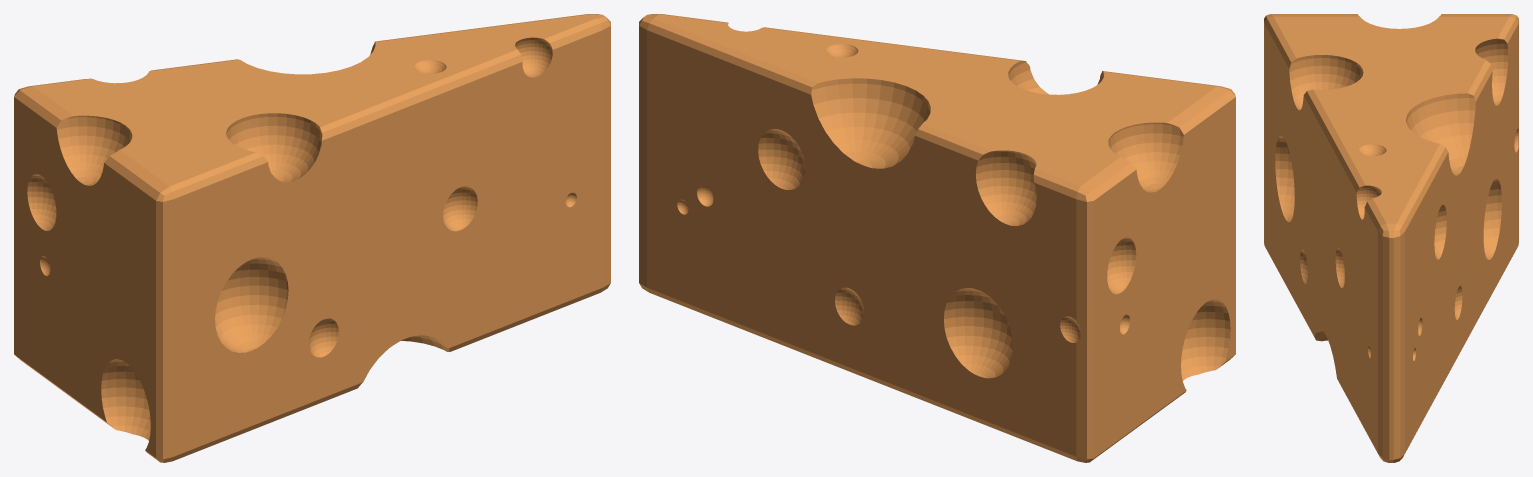
Rendered from cheese_3d.glb.
The picture shows the model from 3 angles, left to right: view 1: azimuth 30°, elevation 25°; view 2: azimuth 150°, elevation 25°; view 3: azimuth 270°, elevation 25°; orthographic projection. The views are drawn at different scales.
Parts seen in each view (by area): view 1: Cheese; view 2: Cheese; view 3: Cheese.
Boxes of the visible parts, box(x1,y1,x2,y2) form: Cheese: box(14, 14, 610, 462); Cheese: box(639, 14, 1235, 462); Cheese: box(1264, 14, 1518, 462).
Bounding box in the file's own units: 4 × 2 × 1.95.
